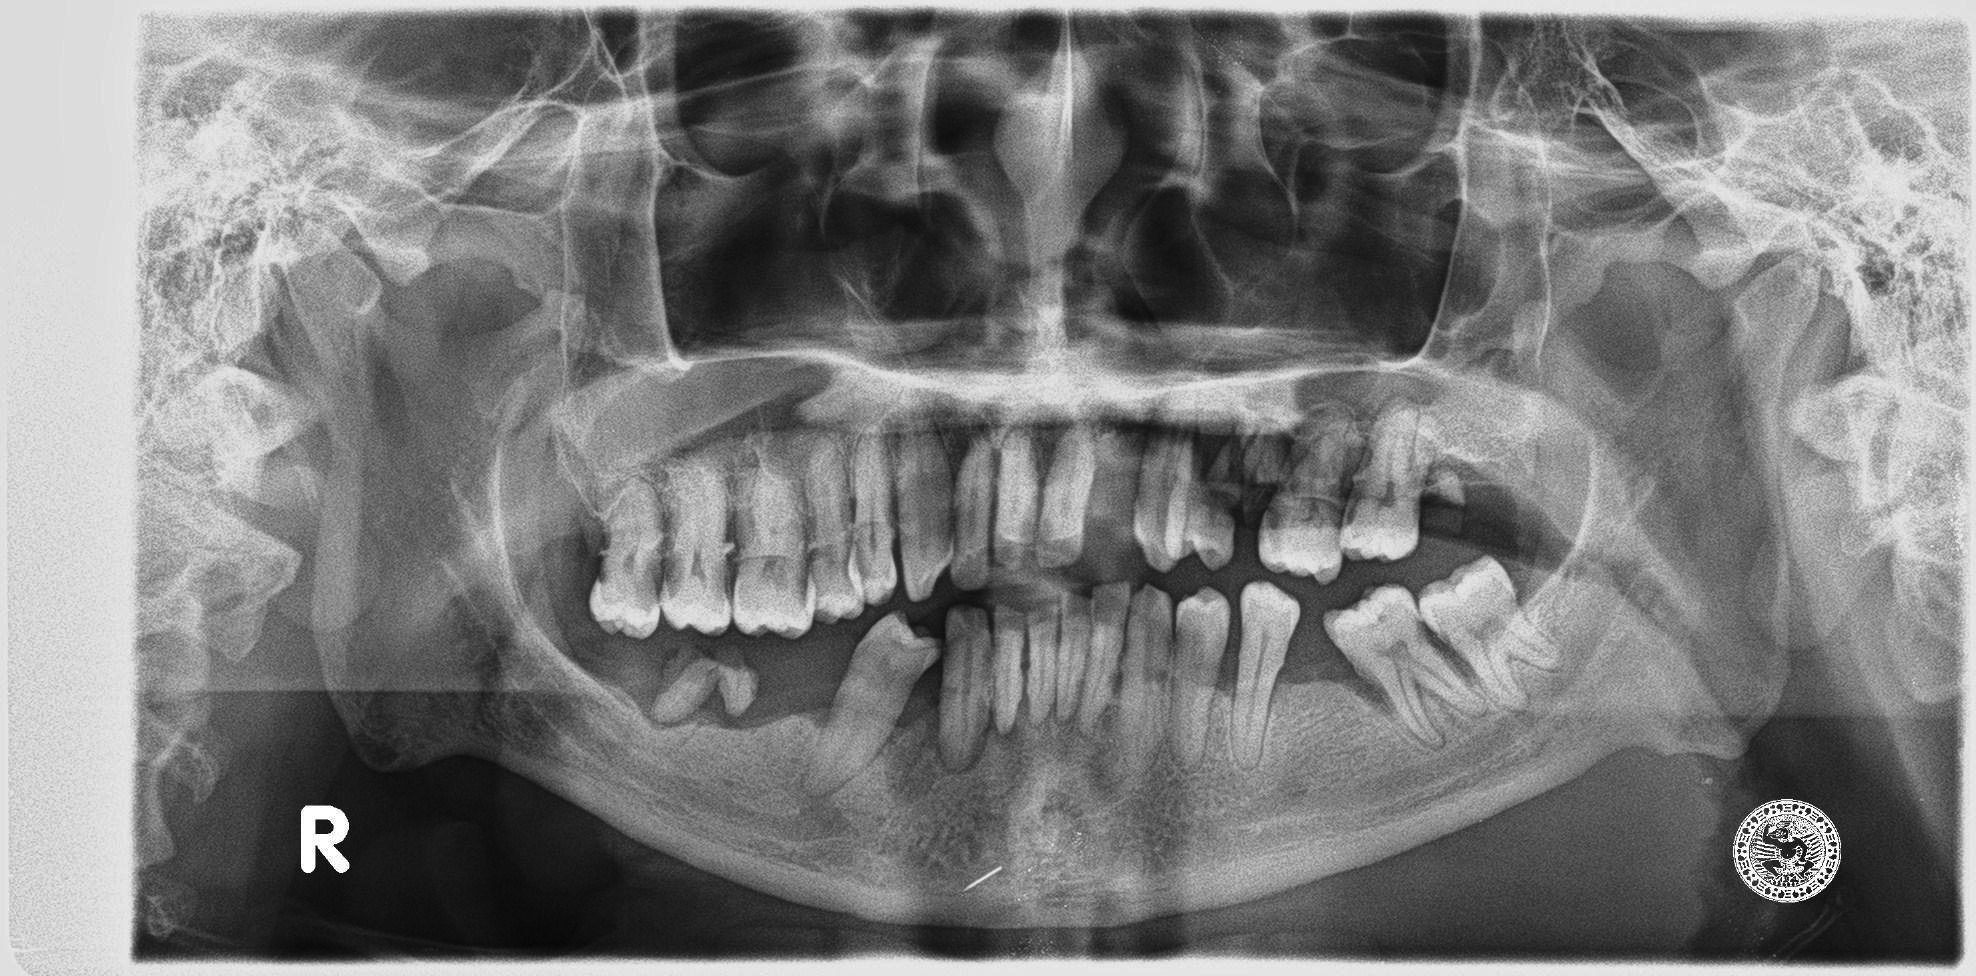Individual Tooth: (1323, 585, 1486, 744), (804, 612, 939, 794), (1418, 556, 1560, 711), (1260, 405, 1367, 583), (733, 446, 814, 638), (1232, 583, 1301, 765), (660, 465, 732, 633), (1340, 409, 1419, 560), (804, 433, 867, 622), (590, 480, 662, 638), (1114, 585, 1173, 774), (1168, 588, 1231, 762), (895, 433, 953, 600), (1037, 425, 1095, 567), (1074, 581, 1130, 726), (939, 609, 991, 768), (648, 649, 756, 725), (1135, 433, 1193, 570), (852, 436, 896, 603), (950, 434, 996, 589), (992, 429, 1038, 565), (1025, 601, 1065, 724), (1055, 596, 1093, 723), (993, 608, 1025, 733)
